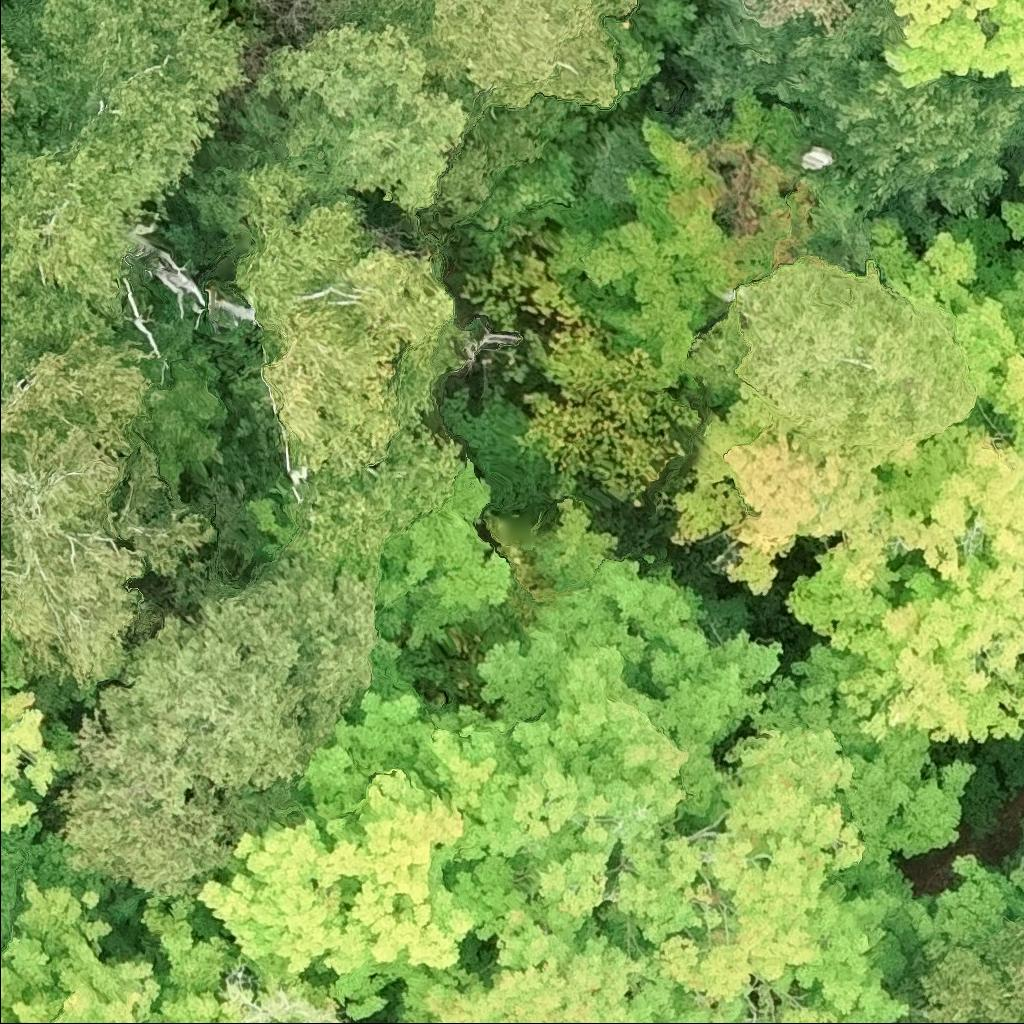crown: (592, 642, 980, 1023), (197, 639, 545, 1021), (784, 212, 1023, 744), (51, 550, 382, 906), (472, 555, 785, 915), (0, 322, 221, 718), (231, 158, 475, 482), (546, 92, 817, 382), (666, 0, 1023, 220), (0, 0, 255, 224), (0, 819, 261, 1023), (726, 258, 976, 457), (664, 406, 921, 597), (236, 19, 469, 216), (380, 901, 684, 1023), (334, 0, 646, 111), (280, 423, 466, 573), (0, 142, 133, 349), (376, 453, 511, 651), (902, 853, 1023, 972), (892, 918, 1023, 1023), (880, 0, 1023, 91), (0, 673, 79, 835), (936, 197, 1023, 308), (0, 19, 21, 122), (1013, 172, 1023, 193), (1020, 855, 1023, 866)
